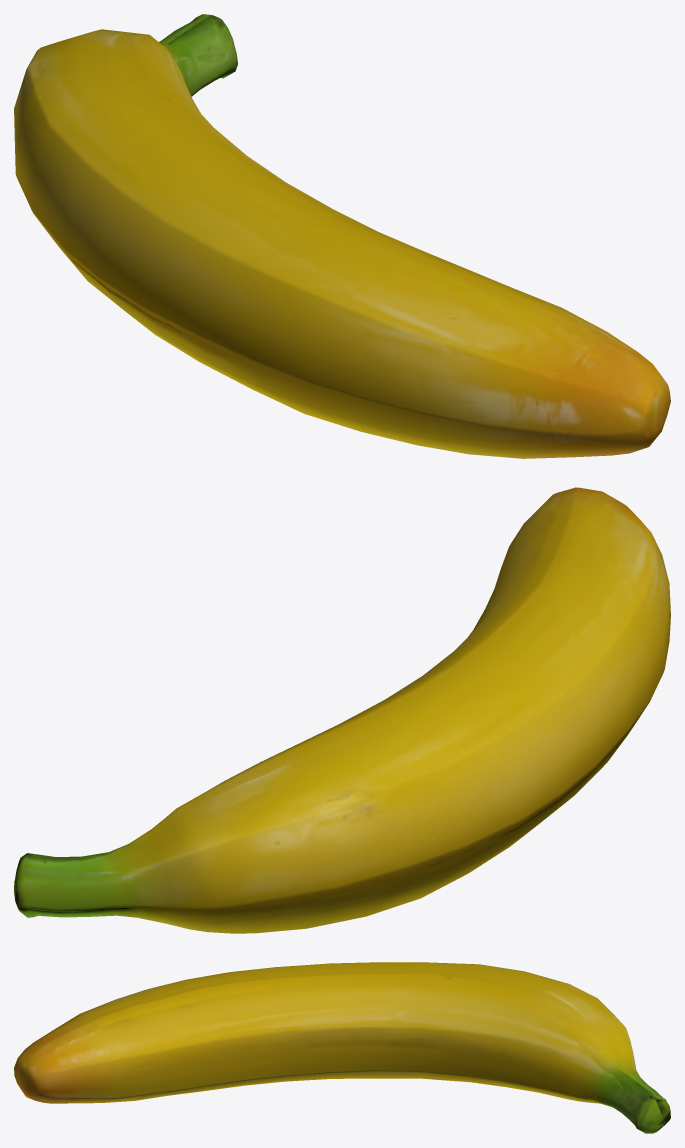
File: 011_banana.dae
3 views of the same model, one above another, from view 1: azimuth 30°, elevation 25°; view 2: azimuth 150°, elevation 25°; view 3: azimuth 270°, elevation 25° (orthographic). The views are drawn at different scales.
Parts seen in each view (by area): view 1: 011_banana; view 2: 011_banana; view 3: 011_banana.
Boxes of the visible parts, <box> form: 011_banana: <box>14,14,670,458</box>; 011_banana: <box>14,487,670,933</box>; 011_banana: <box>14,962,670,1133</box>.
Size of the model in its own units: 0.0747 by 0.197 by 0.0363.
1 material, 1 textured.
